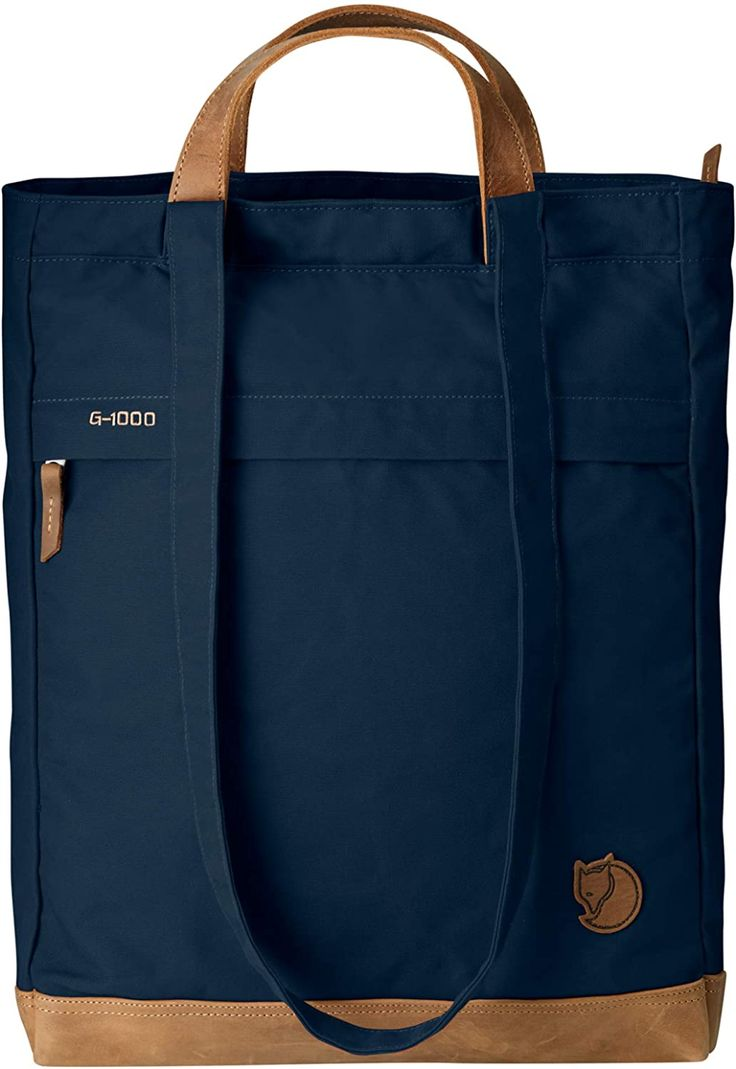nylon: (2, 171, 736, 1000)
